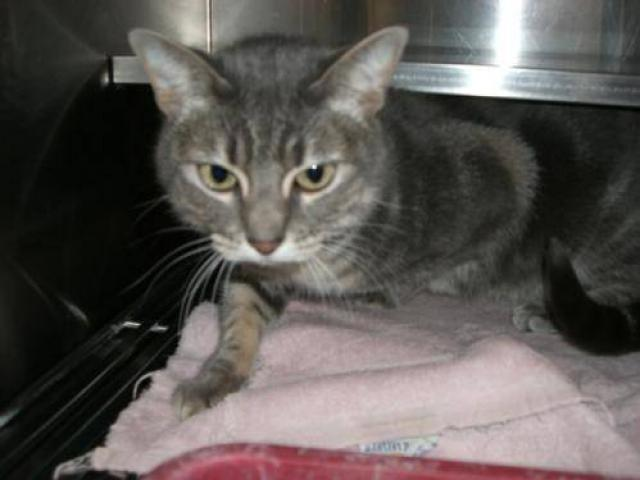cat: (106, 17, 635, 420)
